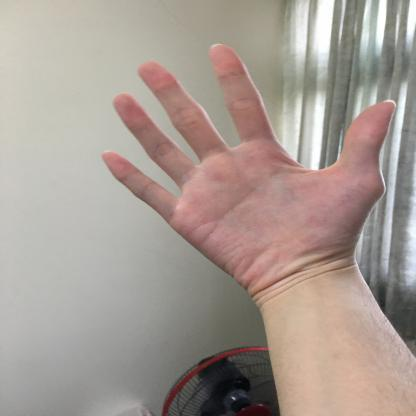bare_hand: (94, 32, 402, 310)
